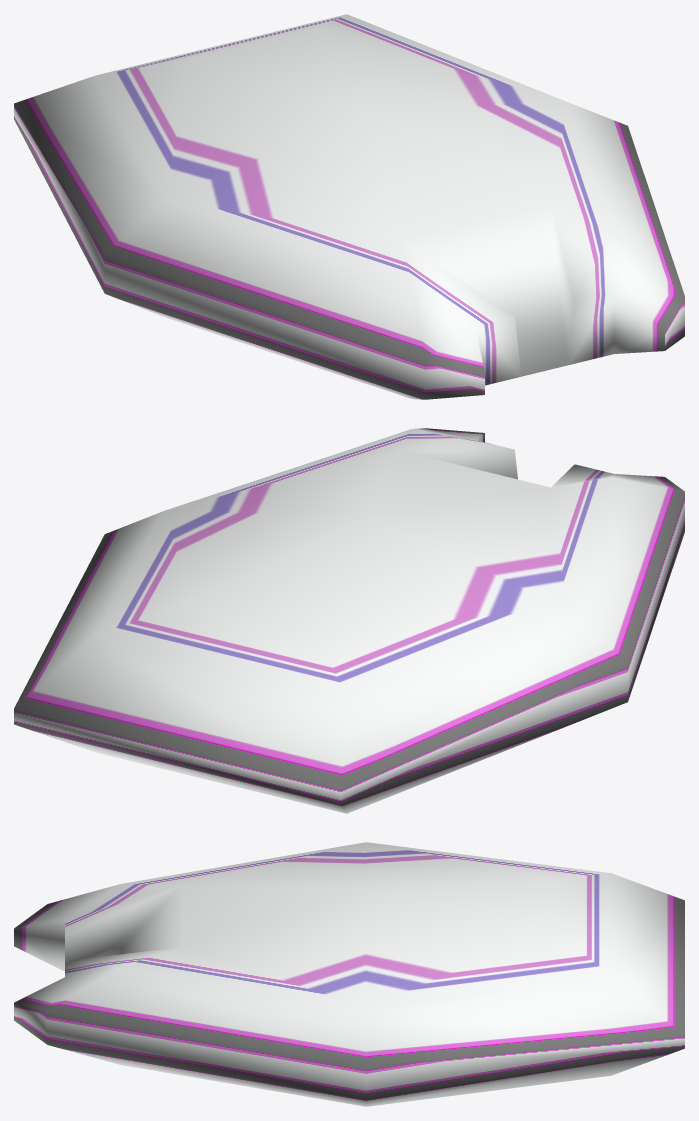
The model's file is turret.fbx.
3 views of the same model, one above another, from view 1: azimuth 30°, elevation 25°; view 2: azimuth 150°, elevation 25°; view 3: azimuth 270°, elevation 25° (orthographic). The views are drawn at different scales.
Parts seen in each view (by area): view 1: Cube; view 2: Cube; view 3: Cube.
Boxes of the visible parts, x1,y1,x2,y2 form: Cube: (14, 14, 684, 399); Cube: (14, 428, 684, 813); Cube: (14, 842, 684, 1106).
Size of the model in its own units: 4.16 by 1.21 by 5.47.
